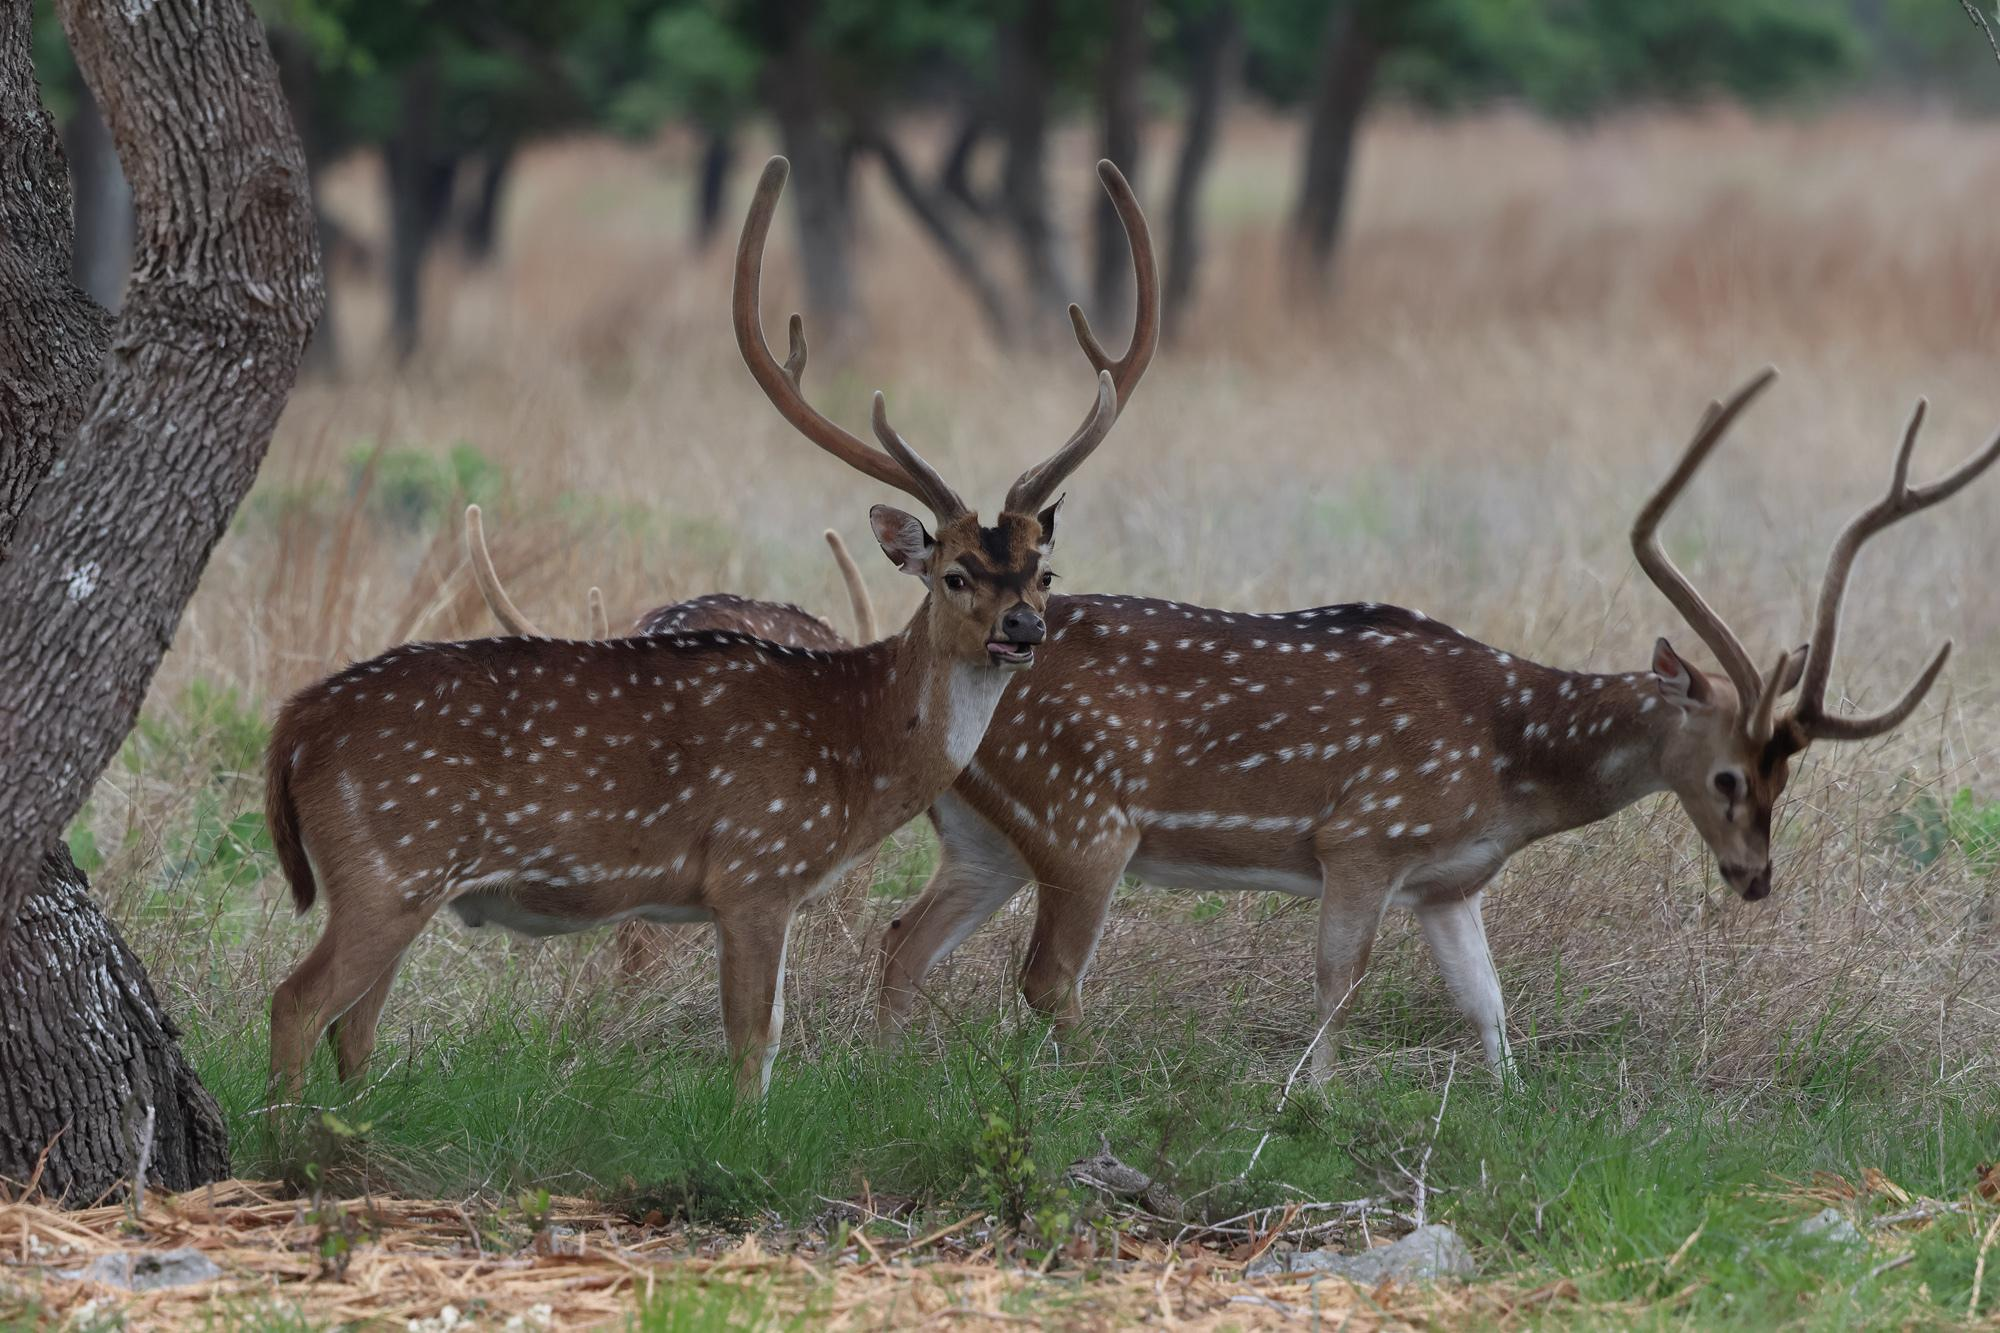Deer: (268, 165, 1155, 1099), (877, 369, 1999, 1082)
